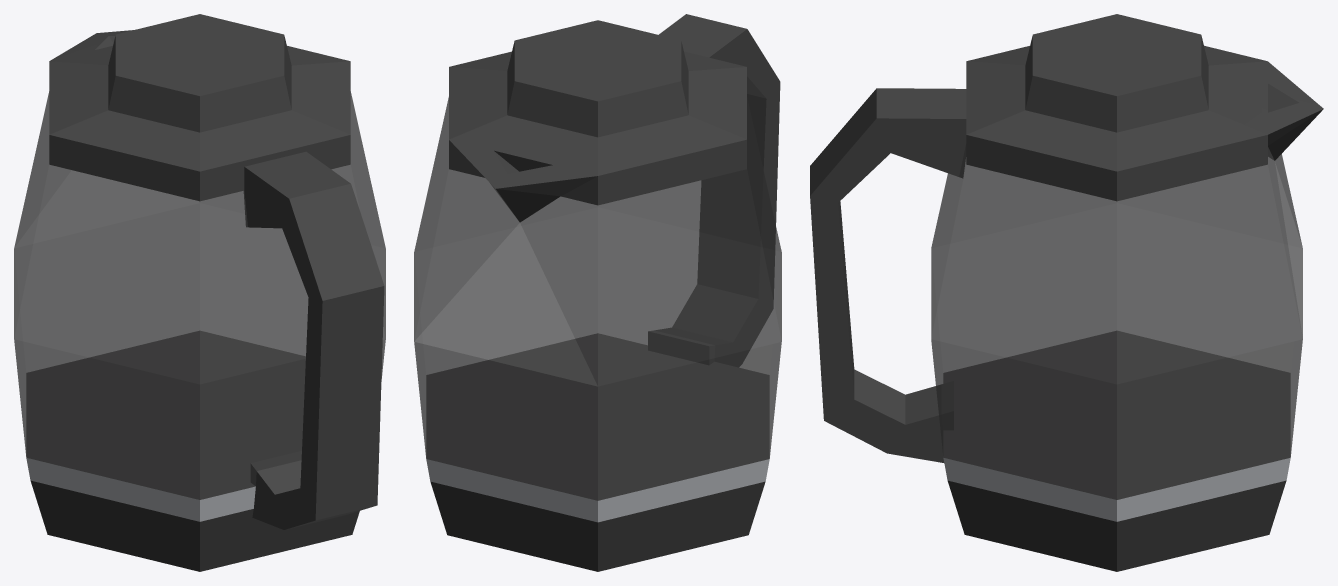
File: SM_Prop_Coffee_Pot_01.obj
3 renders of one model, left to right at view 1: azimuth 30°, elevation 25°; view 2: azimuth 150°, elevation 25°; view 3: azimuth 270°, elevation 25°, orthographic.
Parts seen in each view (by area): view 1: SM_Prop_Coffee_Pot_01_1, SM_Prop_Coffee_Pot_01_0; view 2: SM_Prop_Coffee_Pot_01_1, SM_Prop_Coffee_Pot_01_0; view 3: SM_Prop_Coffee_Pot_01_1, SM_Prop_Coffee_Pot_01_0.
Boxes of the visible parts, x1,y1,x2,y2 form: SM_Prop_Coffee_Pot_01_1: (26,14,384,571); SM_Prop_Coffee_Pot_01_0: (14,91,385,499); SM_Prop_Coffee_Pot_01_1: (426,14,780,571); SM_Prop_Coffee_Pot_01_0: (414,97,781,500); SM_Prop_Coffee_Pot_01_1: (810,14,1323,571); SM_Prop_Coffee_Pot_01_0: (931,144,1302,499).
Size of the model in its own units: 0.2256 by 0.2565 by 0.27.
2 materials, 2 textured.
